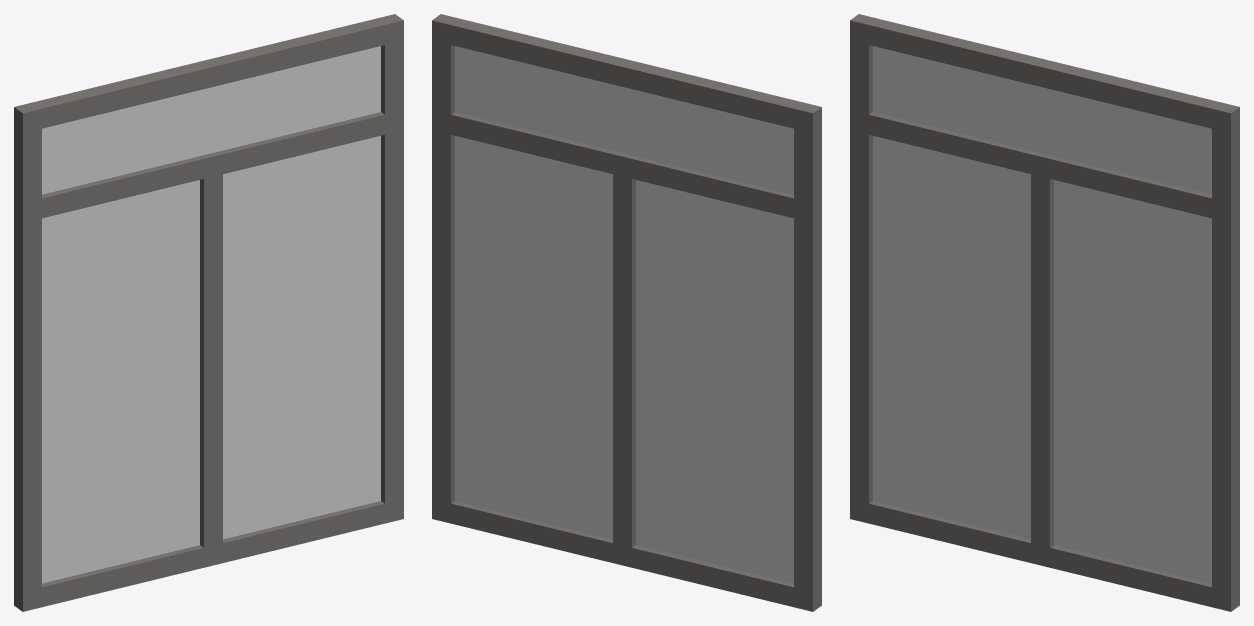
Rendered from SM_Bldg_City_InteriorWall_Door_Shop_02.fbx.
3 renders of one model, left to right at view 1: azimuth 30°, elevation 25°; view 2: azimuth 150°, elevation 25°; view 3: azimuth 330°, elevation 25°, orthographic.
Visible parts, largest first — view 1: SM_Bldg_City_InteriorWall_Door_Shop_02; view 2: SM_Bldg_City_InteriorWall_Door_Shop_02; view 3: SM_Bldg_City_InteriorWall_Door_Shop_02.
Boxes of the visible parts, x1=… form: SM_Bldg_City_InteriorWall_Door_Shop_02: x1=14, y1=14, x2=403, y2=611; SM_Bldg_City_InteriorWall_Door_Shop_02: x1=432, y1=14, x2=821, y2=611; SM_Bldg_City_InteriorWall_Door_Shop_02: x1=850, y1=14, x2=1239, y2=611.
Size of the model in its own units: 200 by 250 by 8.
